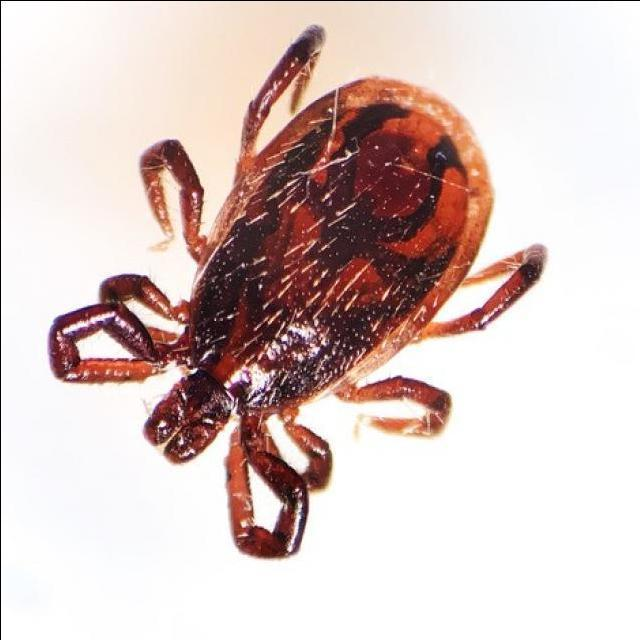Ixodes Ricinus-M: (45, 22, 546, 558)
